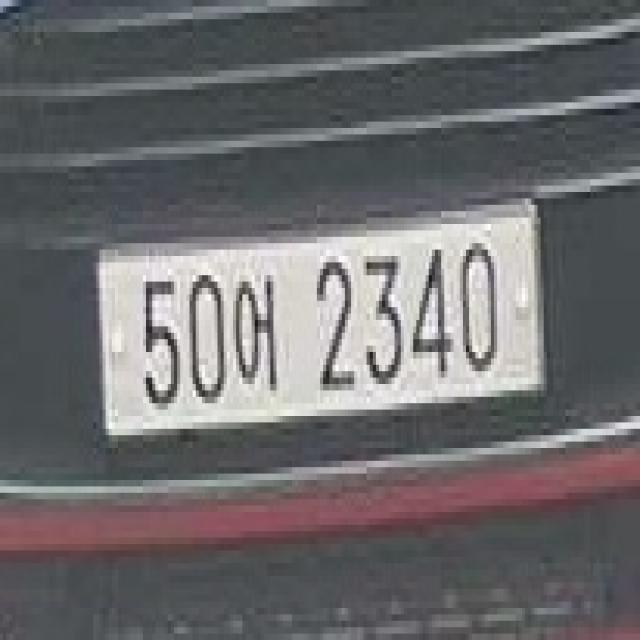0: (458, 225, 502, 382), (188, 270, 228, 410)
2: (317, 252, 358, 397)
3: (361, 244, 408, 390)
4: (410, 232, 454, 385)
5: (141, 274, 182, 416)
eo: (231, 258, 290, 399)
license_plate: (86, 185, 550, 470)
